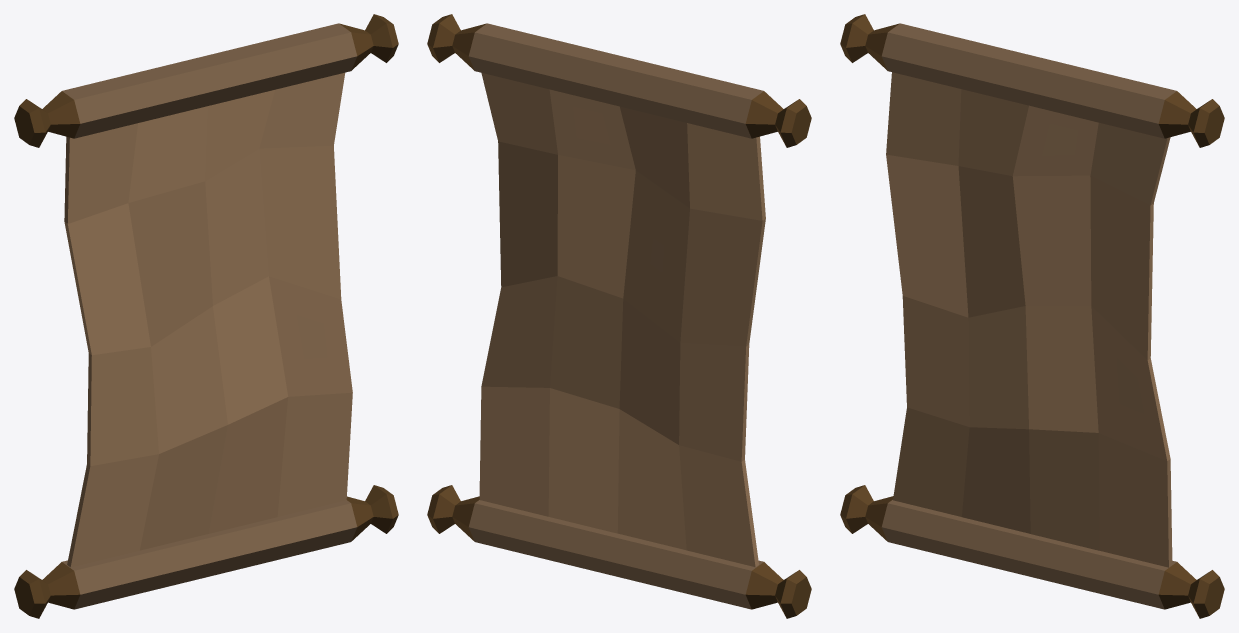
The model's file is Parchment_3_Brown.fbx.
The picture shows the model from 3 angles, left to right: view 1: azimuth 30°, elevation 25°; view 2: azimuth 150°, elevation 25°; view 3: azimuth 330°, elevation 25°; orthographic projection.
Visible parts, largest first — view 1: Parchment_3_Brown_Part_3, Parchment_3_Brown_Part_2, Parchment_3_Brown_Part_1; view 2: Parchment_3_Brown_Part_3, Parchment_3_Brown_Part_2, Parchment_3_Brown_Part_1; view 3: Parchment_3_Brown_Part_3, Parchment_3_Brown_Part_2, Parchment_3_Brown_Part_1.
Part boxes in pixels (x1,y1,x2,y2): Parchment_3_Brown_Part_3: (64,72,352,567); Parchment_3_Brown_Part_2: (62,23,357,609); Parchment_3_Brown_Part_1: (14,14,398,618); Parchment_3_Brown_Part_3: (479,73,765,567); Parchment_3_Brown_Part_2: (468,23,763,609); Parchment_3_Brown_Part_1: (427,14,811,618); Parchment_3_Brown_Part_3: (886,72,1172,567); Parchment_3_Brown_Part_2: (881,23,1176,609); Parchment_3_Brown_Part_1: (840,14,1224,618).
Bounding box in the file's own units: 29.8 × 39.93 × 3.61.
